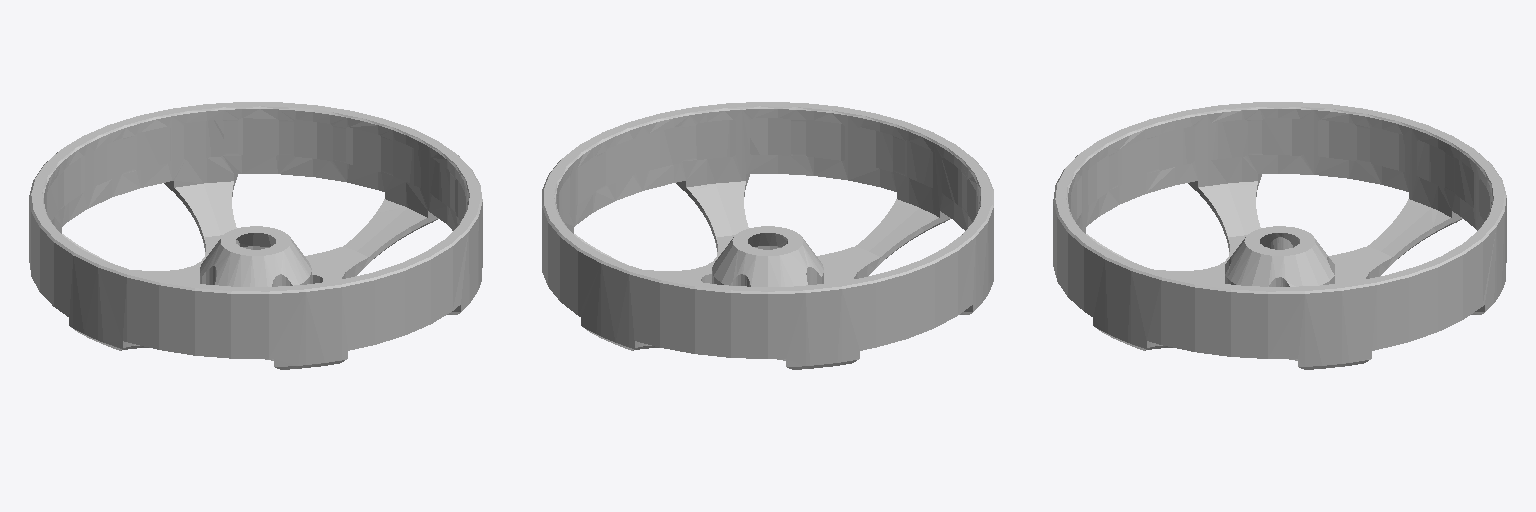
File: solo12_hip_fe_14.obj
3 renders of one model, left to right at view 1: azimuth 30°, elevation 25°; view 2: azimuth 150°, elevation 25°; view 3: azimuth 270°, elevation 25°, orthographic.
Bounding box in the file's own units: 0.0443 × 0.0128 × 0.0444.